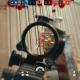Character: (42, 39, 44, 42)
